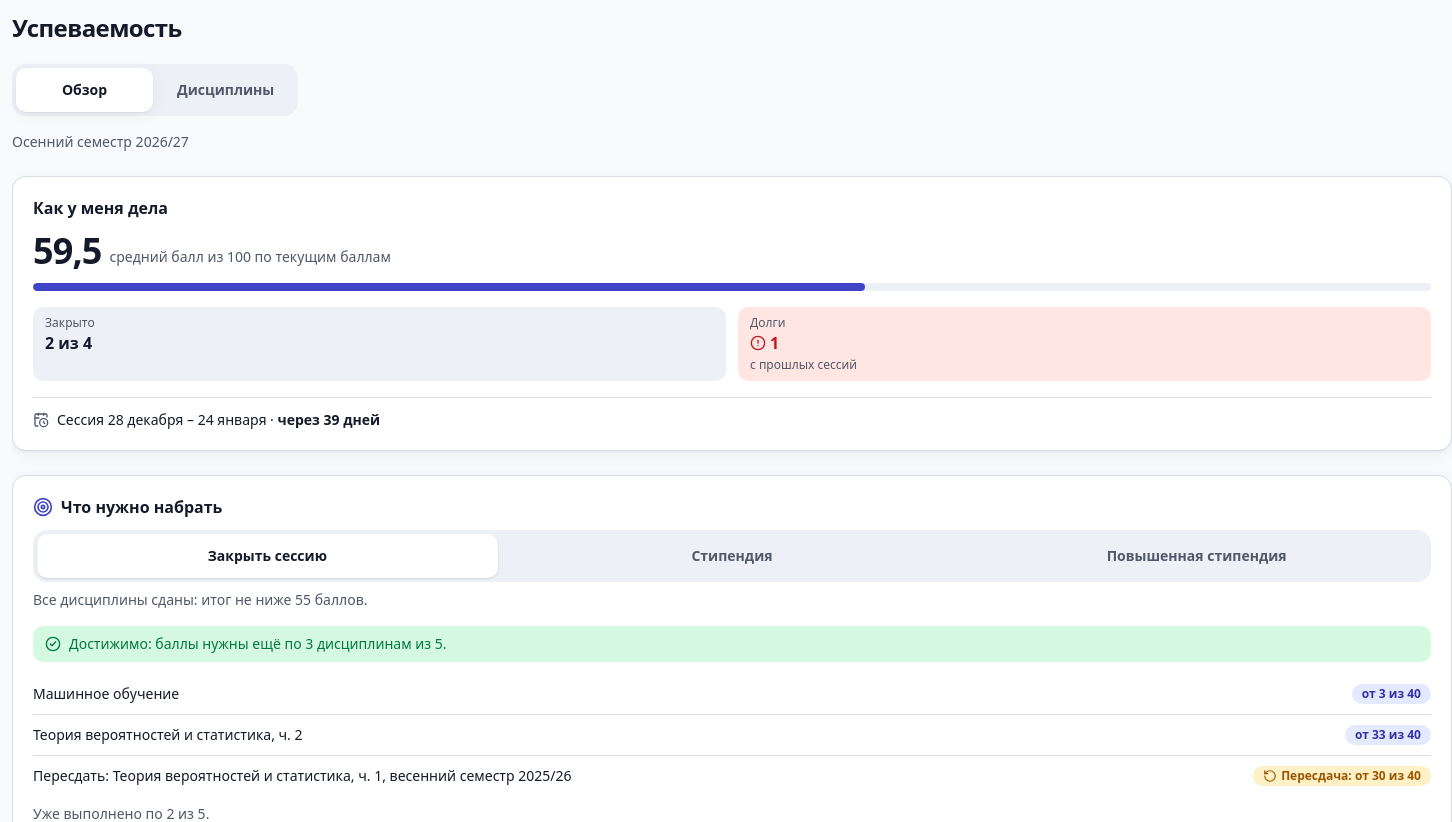
Scenario: даты экзаменов: экран › дат нет — блока нет, в карточках «Дата пока не назначена»
Expected: the heading "Как у меня дела" is shown, x1=33 y1=197 x2=168 y2=219
Click the tab "Дисциплины". click: (226, 90)
box: x1=157 y1=68 x2=294 y2=112
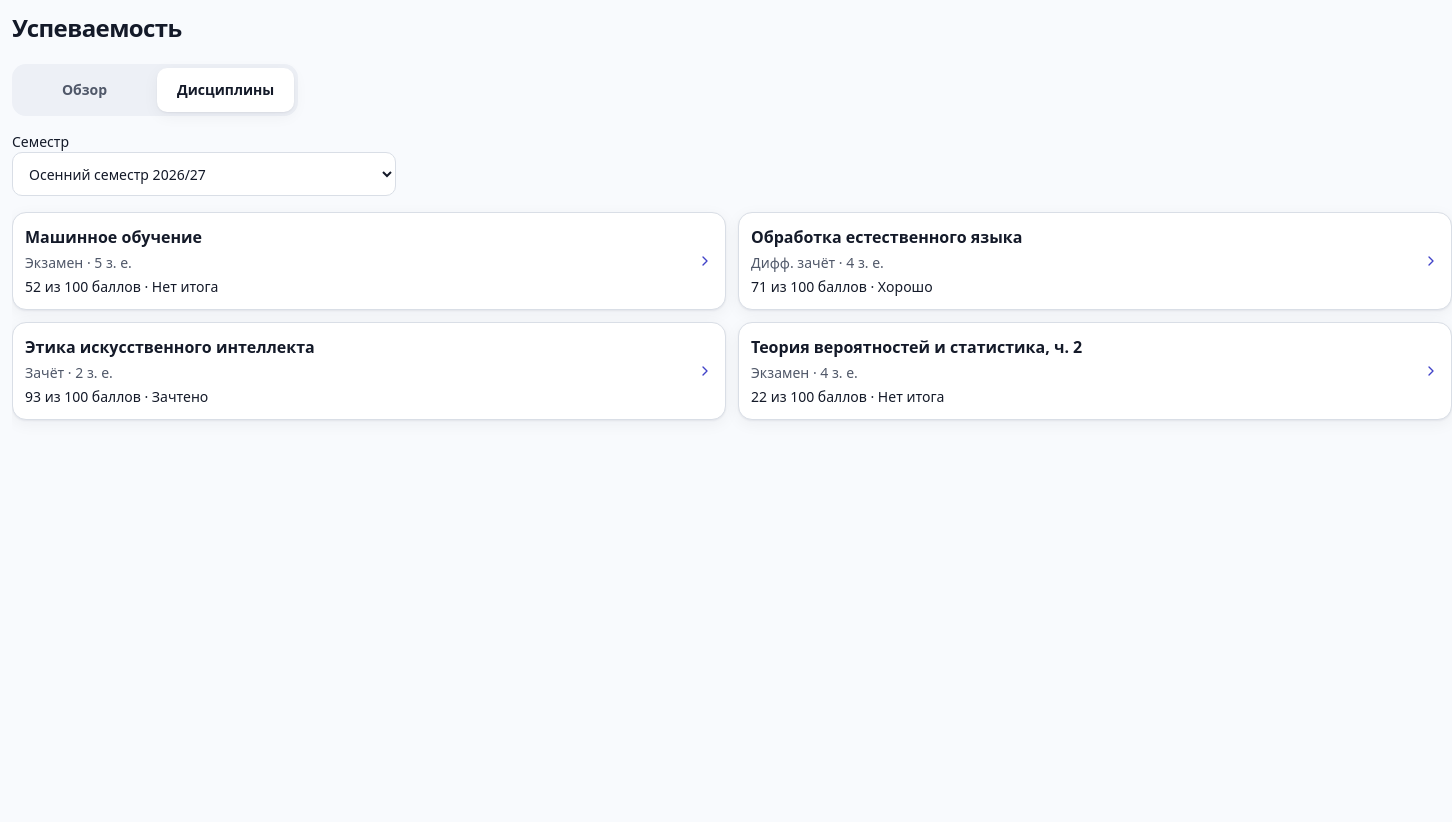
Click the link "Машинное обучение". click: (113, 237)
box: x1=12 y1=212 x2=726 y2=310
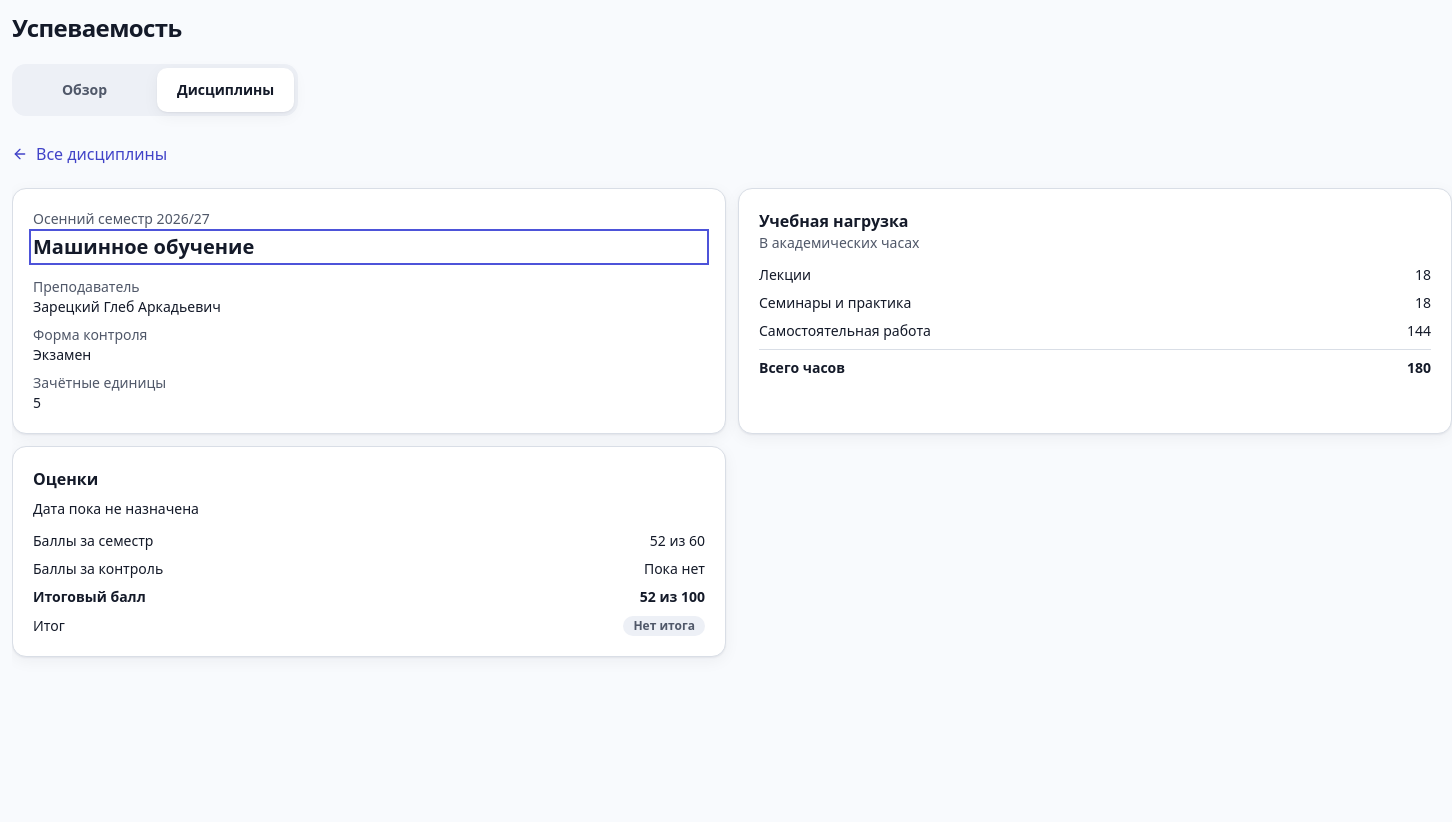
Expected: the text "Дата пока не назначена" is shown, x1=33 y1=499 x2=199 y2=518
